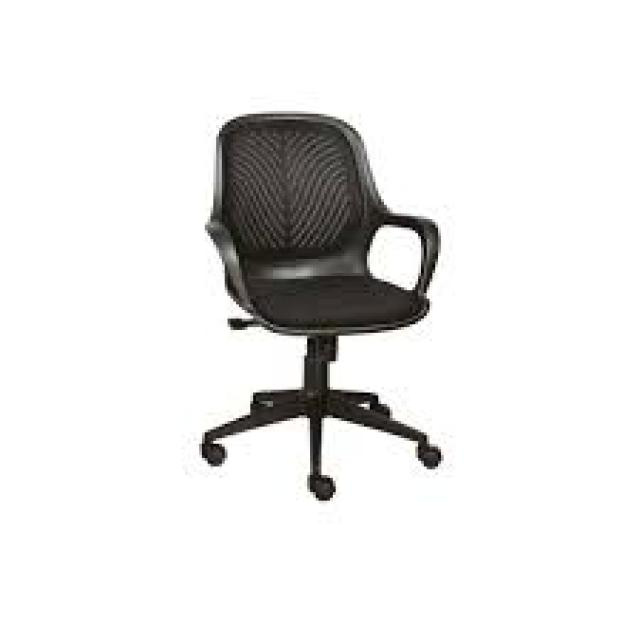chair: (138, 83, 510, 582)
